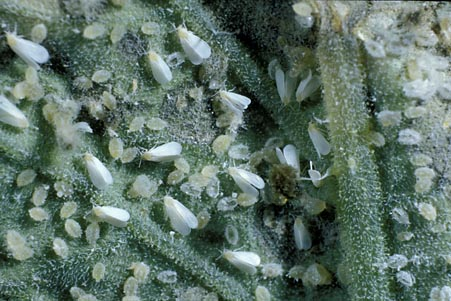whitefly: (5, 22, 49, 73), (159, 191, 198, 236), (172, 23, 211, 65), (78, 147, 114, 190), (225, 163, 265, 197), (1, 93, 32, 136), (141, 45, 172, 85), (217, 248, 261, 276), (87, 201, 130, 228), (214, 84, 251, 115), (138, 142, 181, 167), (276, 145, 300, 185), (307, 120, 331, 158), (276, 67, 297, 106), (290, 213, 311, 251)
